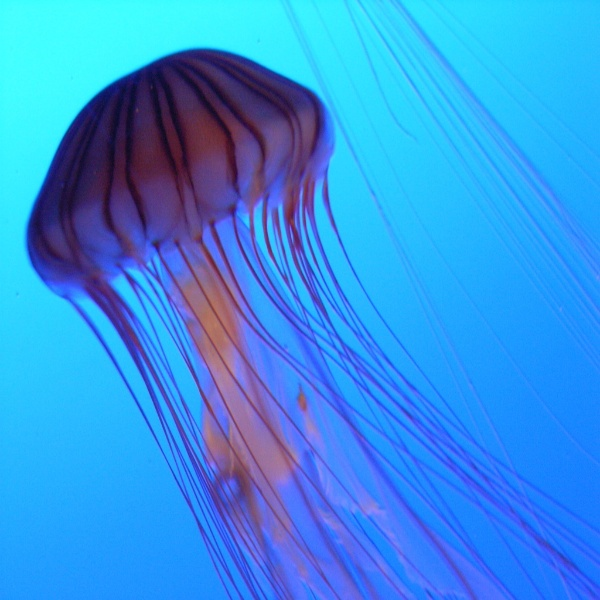Jellyfish: (26, 45, 599, 599)
